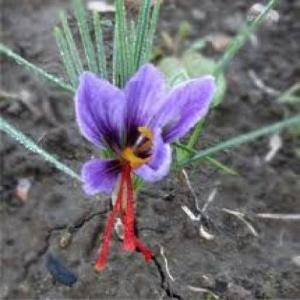Saffron: (76, 66, 215, 198)
